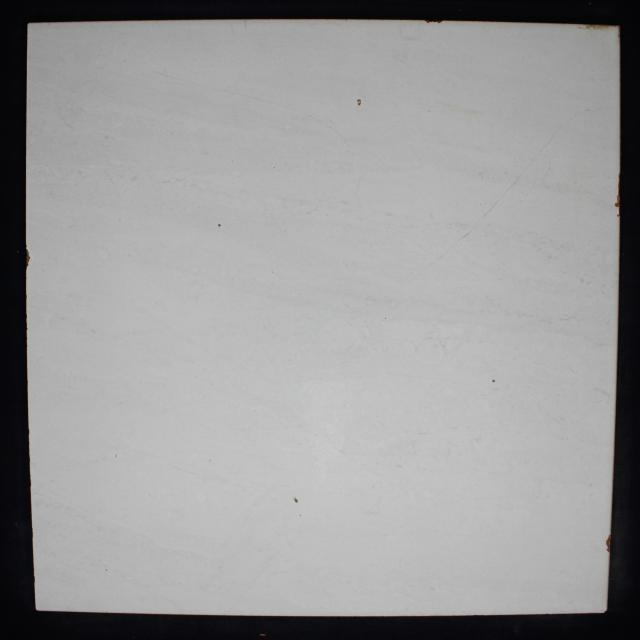edge-chipping: (605, 534, 611, 553), (26, 248, 31, 270), (425, 20, 444, 24), (617, 173, 621, 192), (616, 193, 620, 202), (614, 202, 620, 208), (617, 208, 620, 217)
hole: (356, 99, 362, 106), (293, 496, 298, 504), (218, 223, 222, 227), (492, 380, 495, 382)
line: (484, 160, 534, 215), (543, 108, 591, 150), (425, 249, 450, 269), (456, 227, 476, 243), (244, 19, 247, 30)
